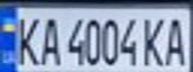0: (81, 14, 103, 66), (100, 15, 121, 66)
4: (118, 14, 142, 68), (63, 12, 84, 66)
A: (160, 12, 193, 68), (36, 12, 63, 66)
K: (9, 11, 45, 68), (139, 12, 169, 68)
